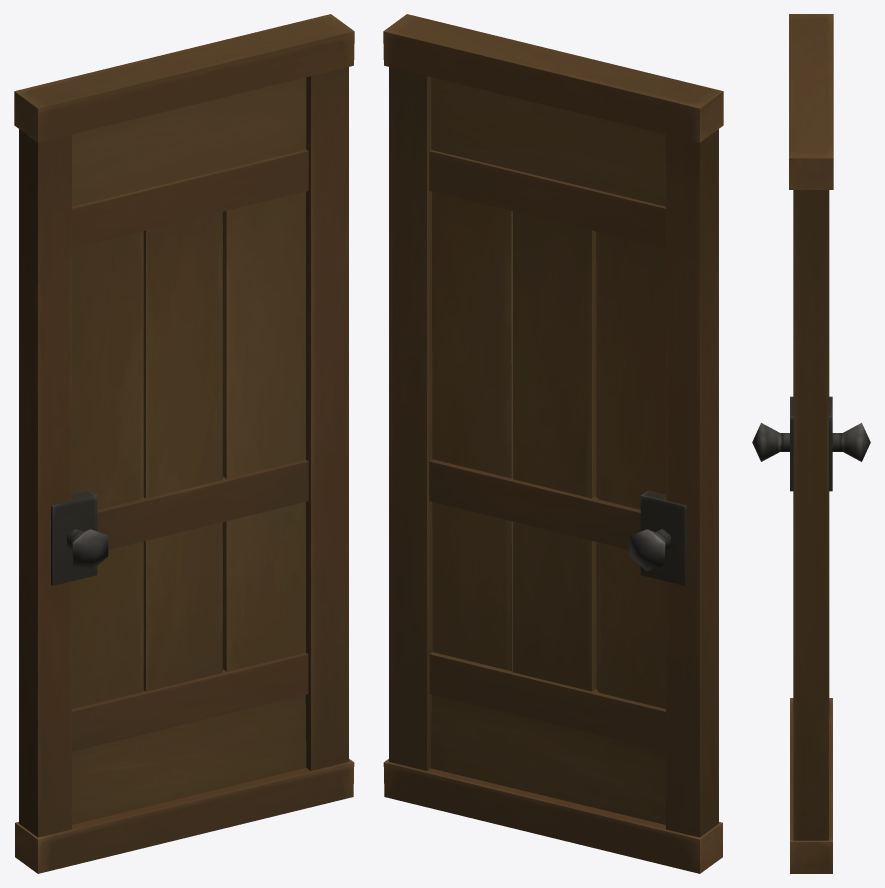
File: Door02_d.FBX
3 views of the same model, side by side, from view 1: azimuth 30°, elevation 25°; view 2: azimuth 150°, elevation 25°; view 3: azimuth 270°, elevation 25° (orthographic). The views are drawn at different scales.
Parts seen in each view (by area): view 1: Object406; view 2: Object406; view 3: Object406.
Boxes of the visible parts, x1=… form: Object406: x1=14, y1=14, x2=354, y2=873; Object406: x1=383, y1=14, x2=723, y2=873; Object406: x1=752, y1=14, x2=870, y2=873.
Size of the model in its own units: 0.867 by 2 by 0.3009.
1 material, 1 textured.
